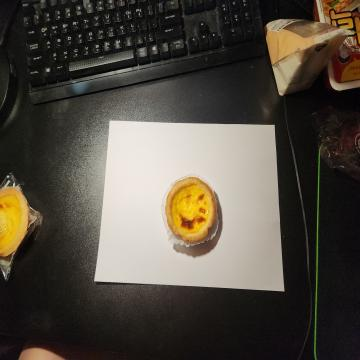EggTart: (165, 176, 216, 243)
